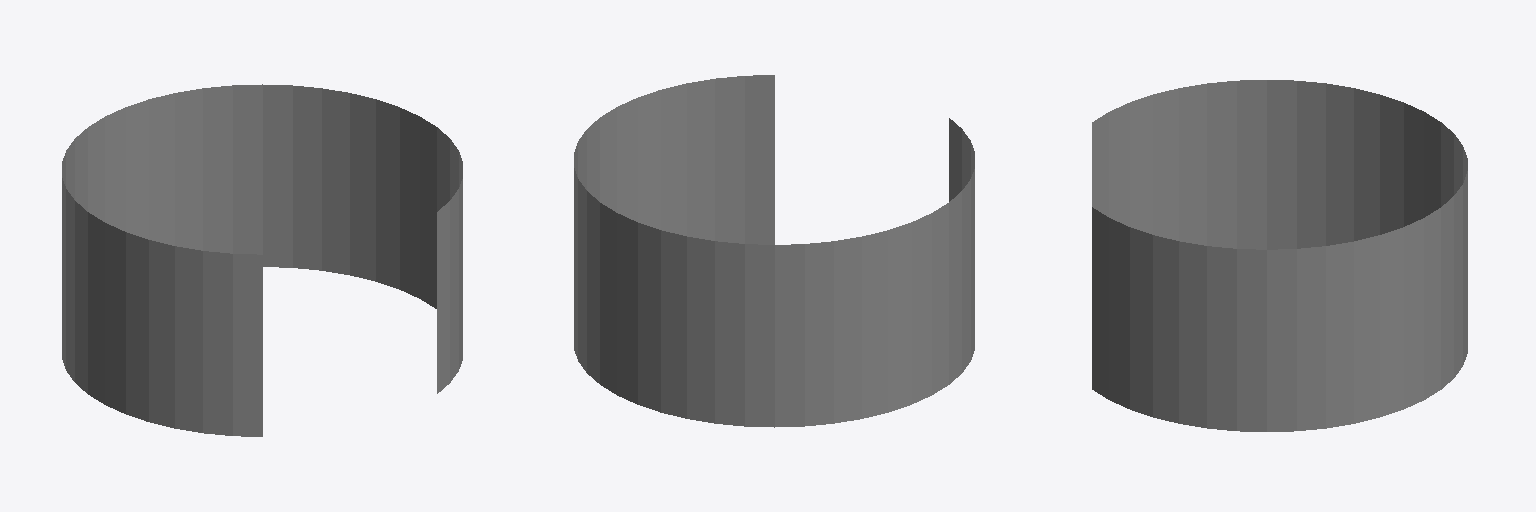
The model's file is room_uv.obj.
3 renders of one model, left to right at view 1: azimuth 30°, elevation 25°; view 2: azimuth 150°, elevation 25°; view 3: azimuth 270°, elevation 25°, orthographic.
Visible parts, largest first — view 1: Body1; view 2: Body1; view 3: Body1.
Boxes of the visible parts, box(x1,y1,x2,y2) form: Body1: box(62, 84, 462, 436); Body1: box(574, 75, 974, 427); Body1: box(1092, 80, 1467, 431).
Bounding box in the file's own units: 157 × 78.74 × 147.